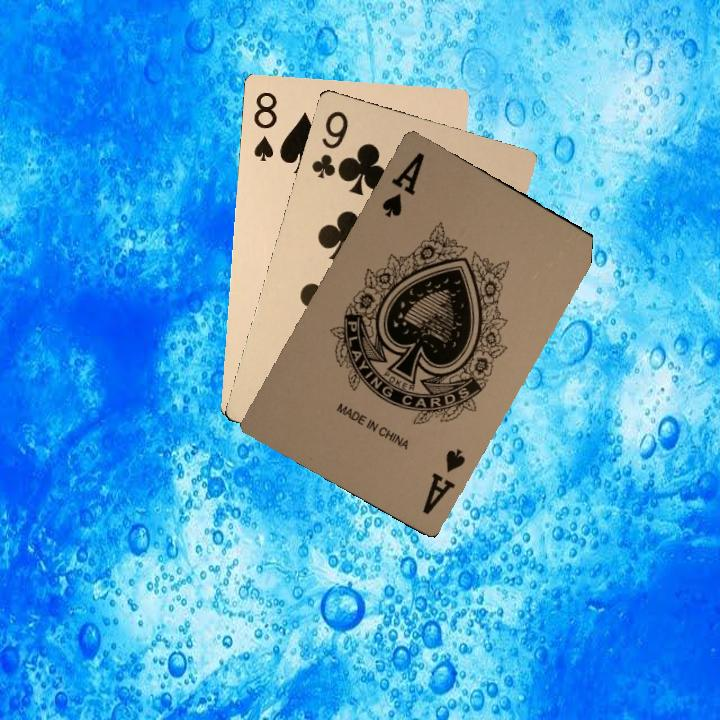8s: (249, 87, 279, 164)
9c: (307, 107, 351, 182)
As: (377, 148, 427, 220), (418, 445, 468, 517)
